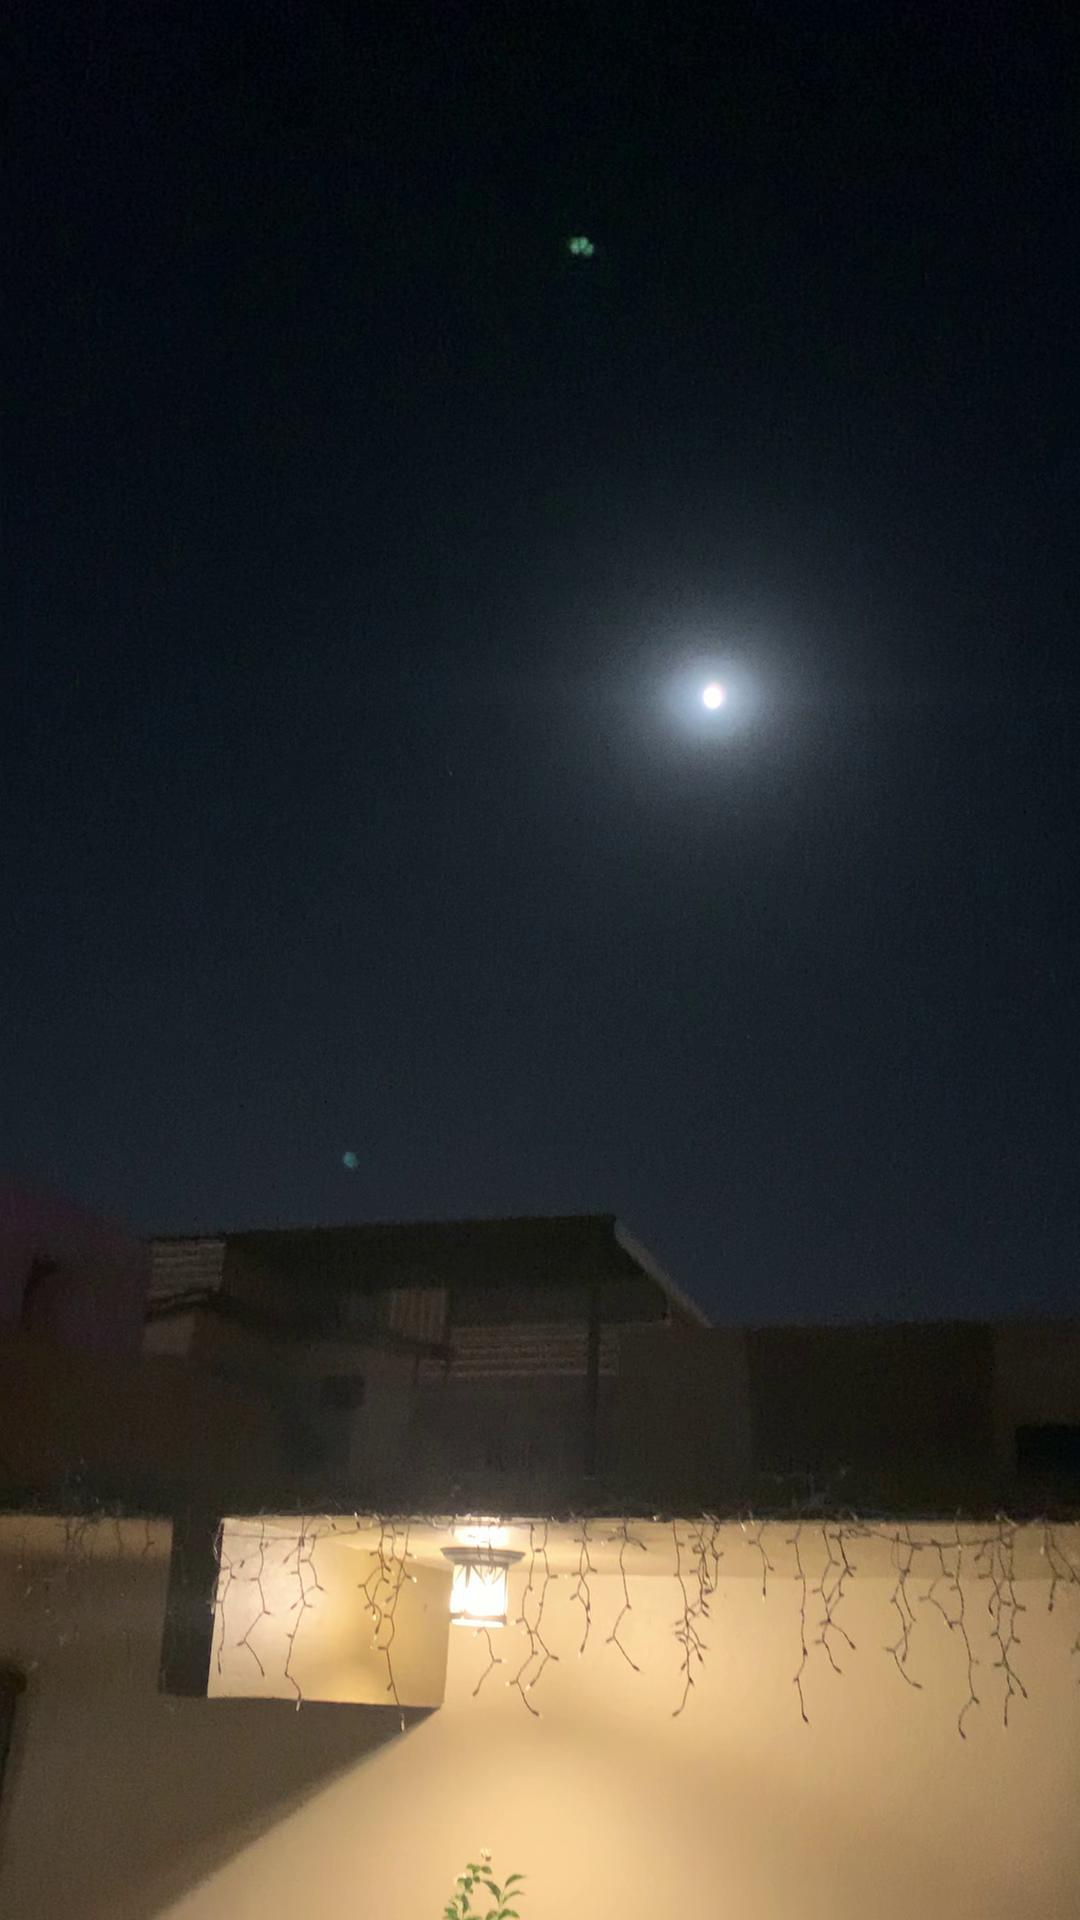moon: (670, 658, 757, 737)
